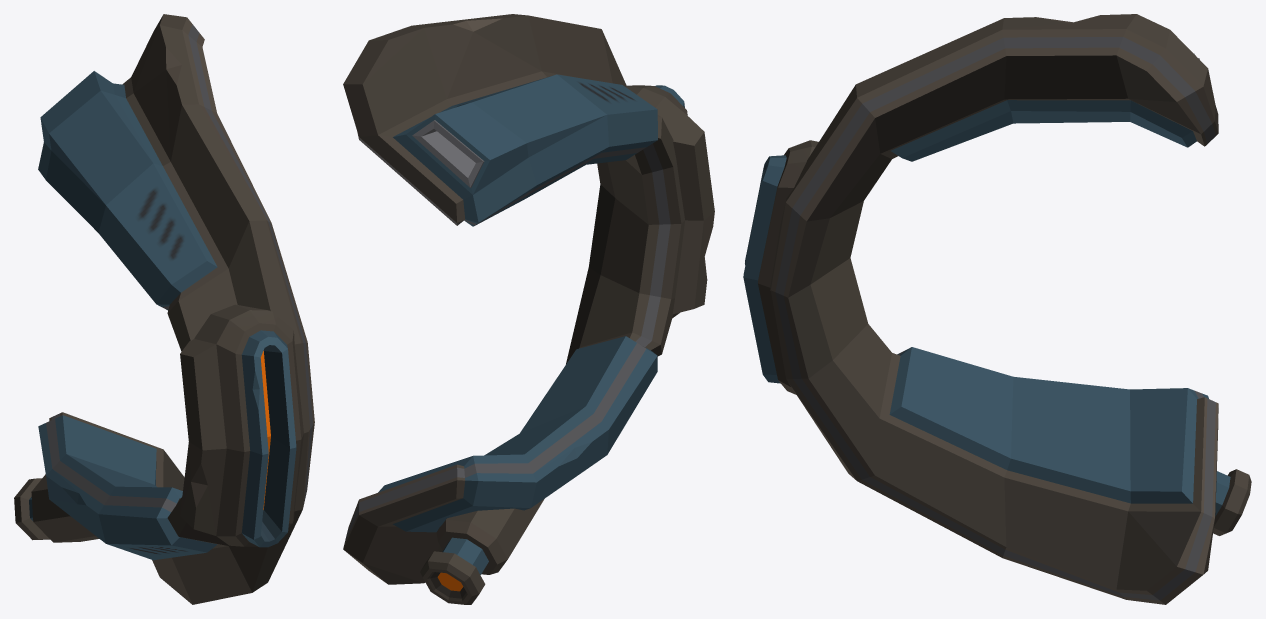
The model's file is SM_Mech_Chest_01_Armor_Collar_05.fbx.
3 views of the same model, side by side, from view 1: azimuth 30°, elevation 25°; view 2: azimuth 150°, elevation 25°; view 3: azimuth 270°, elevation 25° (orthographic). The views are drawn at different scales.
Parts seen in each view (by area): view 1: SM_Mech_Chest_01_Armor_Collar_05; view 2: SM_Mech_Chest_01_Armor_Collar_05; view 3: SM_Mech_Chest_01_Armor_Collar_05.
Part boxes in pixels (x1,y1,x2,y2): SM_Mech_Chest_01_Armor_Collar_05: (14, 14, 314, 604); SM_Mech_Chest_01_Armor_Collar_05: (343, 14, 714, 604); SM_Mech_Chest_01_Armor_Collar_05: (743, 14, 1251, 604).
Bounding box in the file's own units: 46.48 × 136 × 107.
